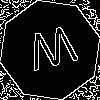W: (25, 25, 82, 80)
